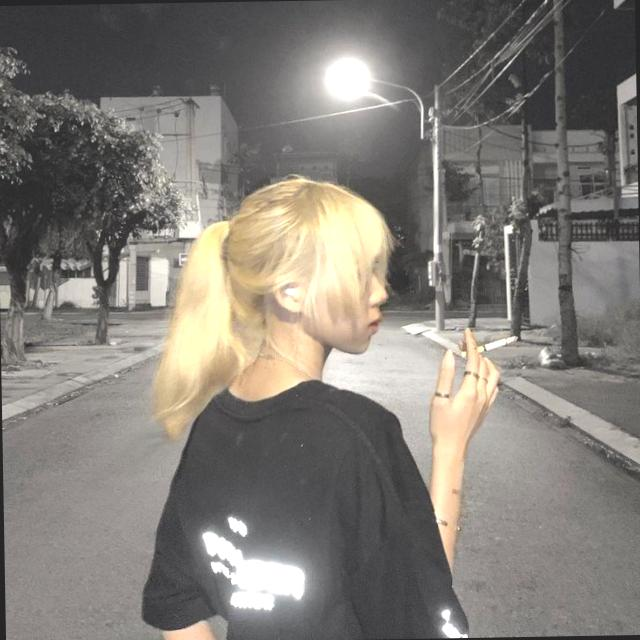smoke: (448, 315, 530, 382)
